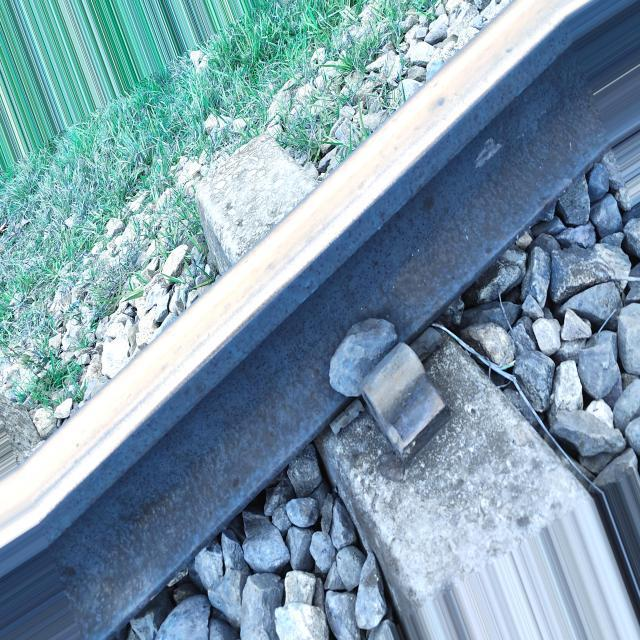Missing Fastener: (332, 309, 523, 523)
